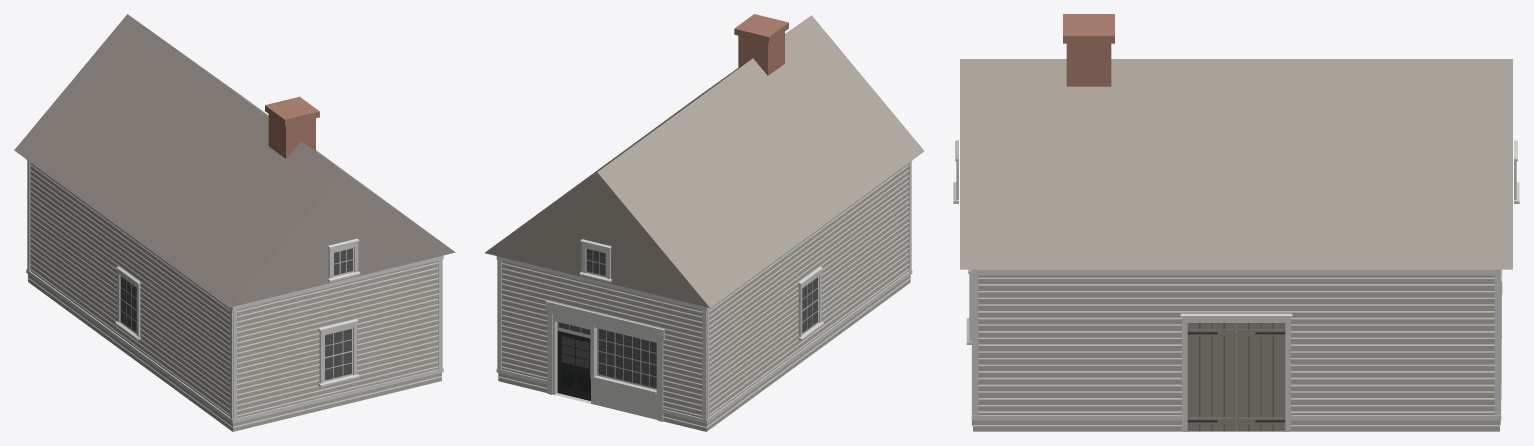
Rendered from recon_1835_core_c2_026__inferred_1835.glb.
The picture shows the model from 3 angles, left to right: view 1: azimuth 30°, elevation 25°; view 2: azimuth 150°, elevation 25°; view 3: azimuth 270°, elevation 25°; orthographic projection. The views are drawn at different scales.
Parts seen in each view (by area): view 1: recon_1835_core_c2_026__inferred_1835; view 2: recon_1835_core_c2_026__inferred_1835; view 3: recon_1835_core_c2_026__inferred_1835.
Part boxes in pixels (box(x1,y1,x2,y2)): recon_1835_core_c2_026__inferred_1835: box(14, 14, 455, 431); recon_1835_core_c2_026__inferred_1835: box(485, 14, 924, 431); recon_1835_core_c2_026__inferred_1835: box(953, 14, 1519, 431).
Bounding box in the file's own units: 6.38 × 7.13 × 10.73.
